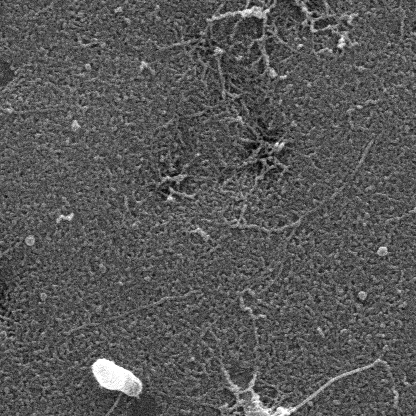regular: (95, 361, 145, 404)
